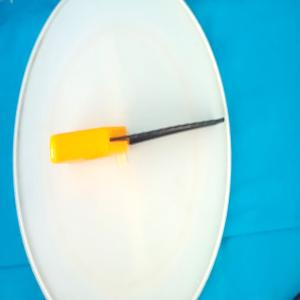serrote: (49, 116, 225, 165)
